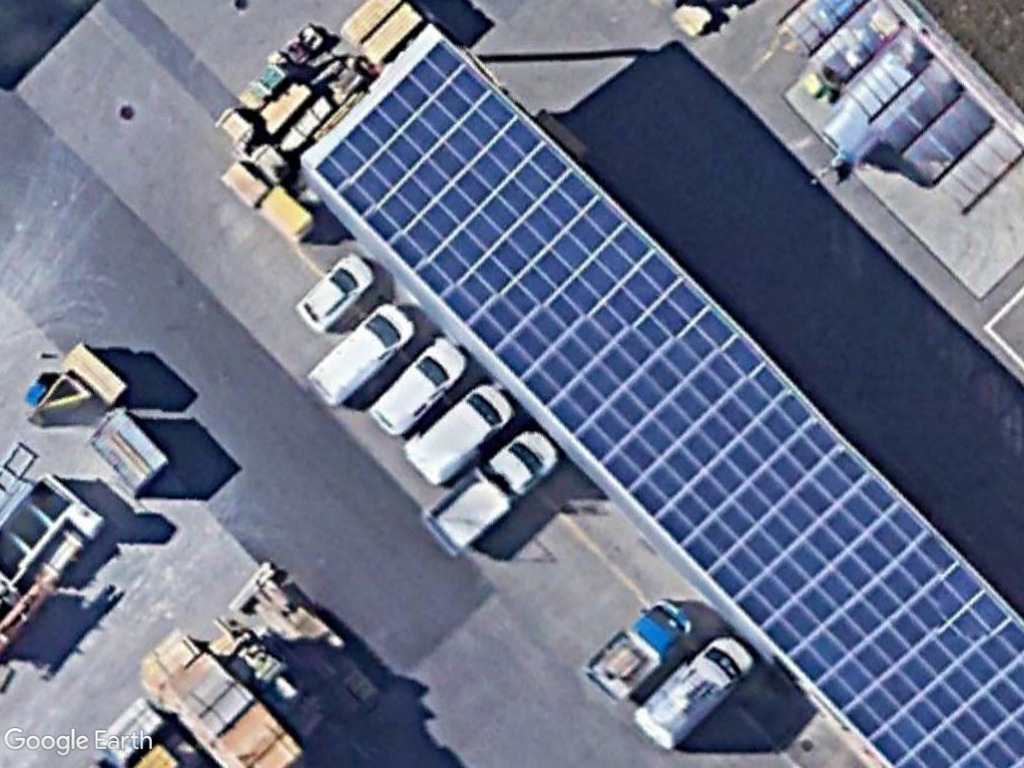car: (291, 252, 374, 337)
others: (422, 431, 557, 554), (585, 598, 701, 702)
van: (630, 635, 754, 749), (306, 302, 419, 411), (401, 384, 517, 487), (367, 337, 468, 438)
